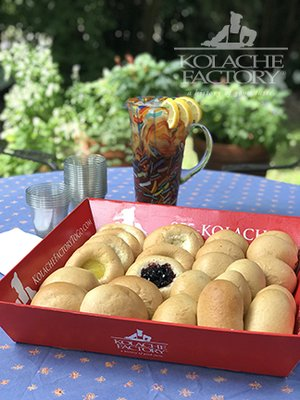pizza: (63, 154, 107, 213)
